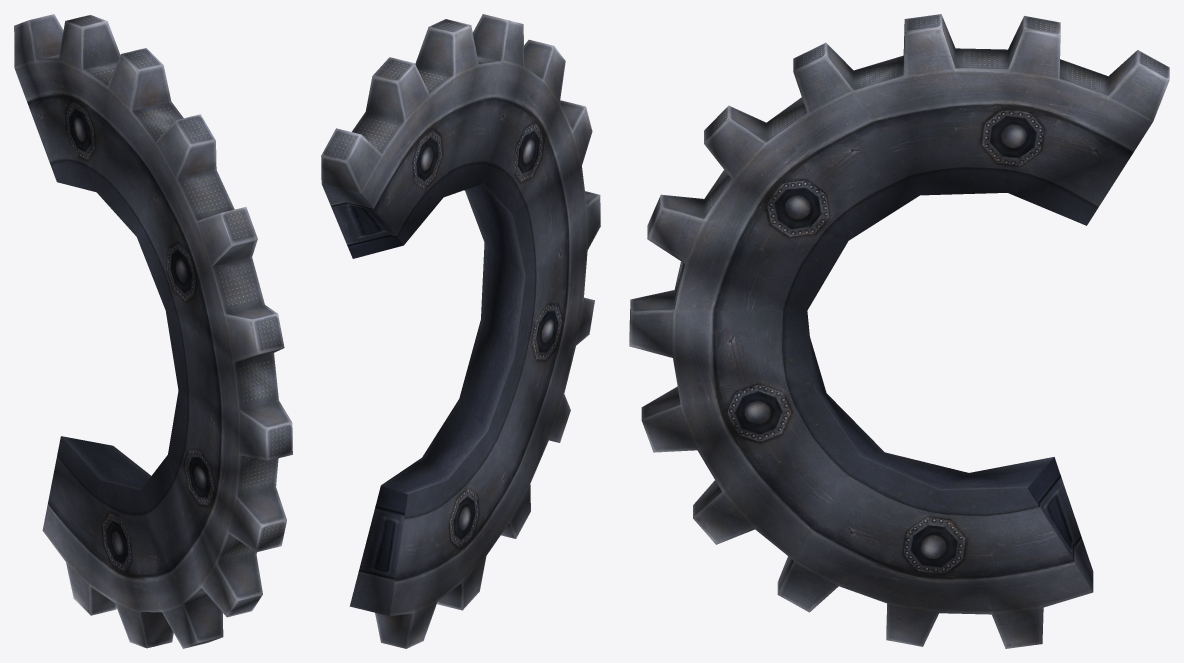
Rendered from obj_macoprgrge01-04.glb.
3 views of the same model, side by side, from view 1: azimuth 30°, elevation 25°; view 2: azimuth 150°, elevation 25°; view 3: azimuth 270°, elevation 25° (orthographic). The views are drawn at different scales.
Visible parts, largest first — view 1: part_0; view 2: part_0; view 3: part_0.
Part boxes in pixels (<box>): part_0: <box>14,14,292,648</box>; part_0: <box>321,14,600,648</box>; part_0: <box>629,14,1169,648</box>.
Bounding box in the file's own units: 4.11 × 57.71 × 45.42.
1 material, 1 textured.
